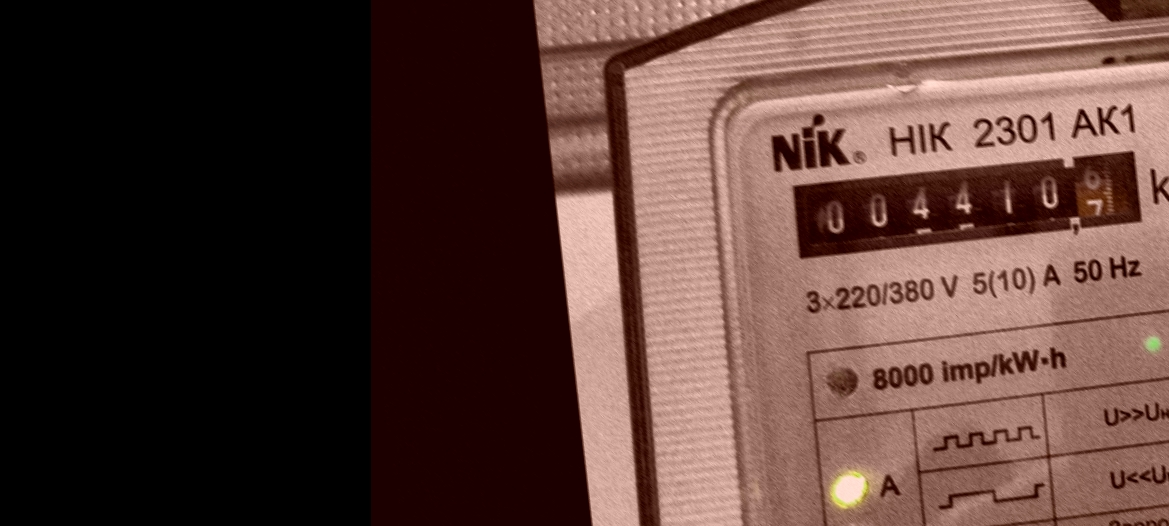0: (821, 198, 847, 238), (866, 192, 888, 232), (1037, 175, 1060, 213)
1: (997, 180, 1015, 218)
4: (949, 180, 975, 221), (906, 184, 932, 224)
6: (1083, 165, 1103, 193)
7: (1084, 198, 1104, 220)
screen: (779, 136, 1155, 275)
